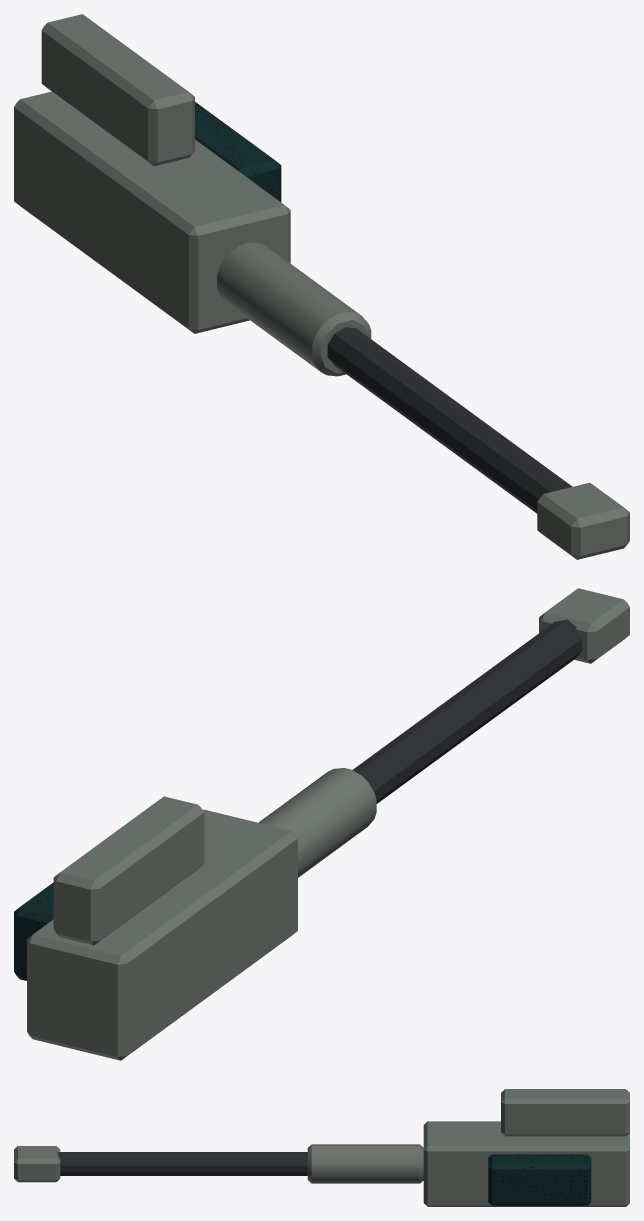
File: Gun_Autocannon.fbx
The picture shows the model from 3 angles, top to bottom: view 1: azimuth 30°, elevation 25°; view 2: azimuth 150°, elevation 25°; view 3: azimuth 270°, elevation 25°; orthographic projection. The views are drawn at different scales.
Parts seen in each view (by area): view 1: Gun_Autocannon; view 2: Gun_Autocannon; view 3: Gun_Autocannon.
Boxes of the visible parts, x1,y1,x2,y2 form: Gun_Autocannon: (14, 14, 629, 559); Gun_Autocannon: (14, 588, 629, 1060); Gun_Autocannon: (14, 1089, 629, 1206).
Size of the model in its own units: 0.38 by 0.43 by 2.39.
